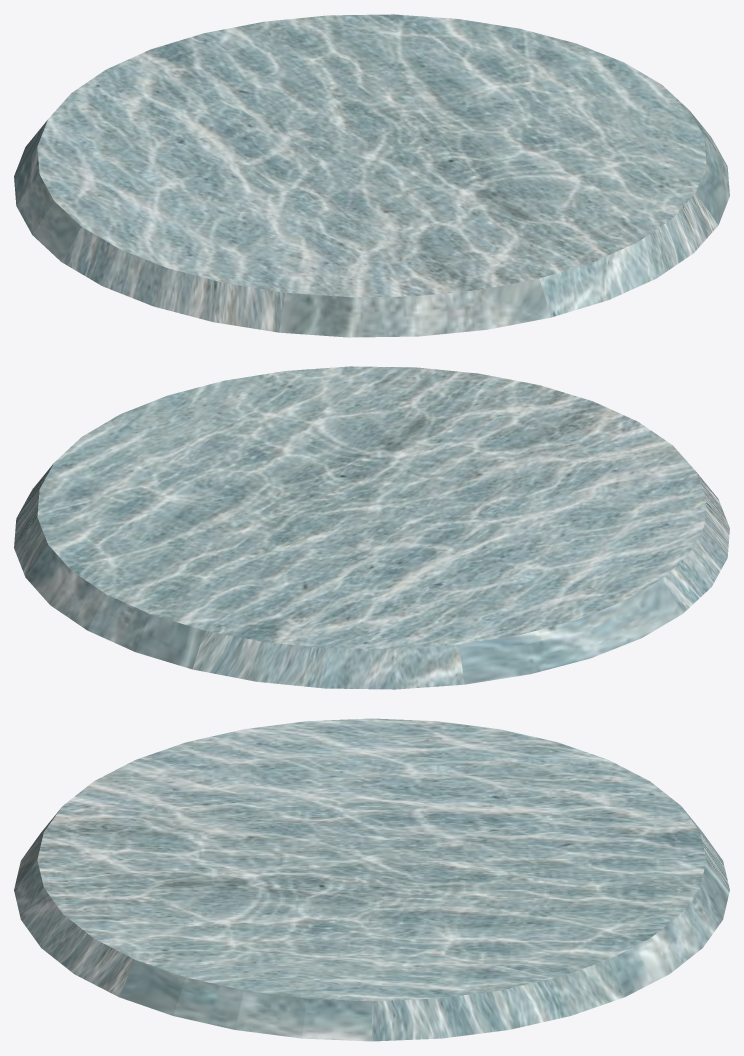
File: Stage.gltf
3 renders of one model, top to bottom at view 1: azimuth 30°, elevation 25°; view 2: azimuth 150°, elevation 25°; view 3: azimuth 270°, elevation 25°, orthographic.
Visible parts, largest first — view 1: 円柱; view 2: 円柱; view 3: 円柱.
Part boxes in pixels (x1,y1,x2,y2): 円柱: [14, 14, 729, 337]; 円柱: [14, 366, 729, 689]; 円柱: [14, 718, 729, 1041].
Bounding box in the file's own units: 32.1 × 1.5 × 32.1.
1 material, 1 textured.
